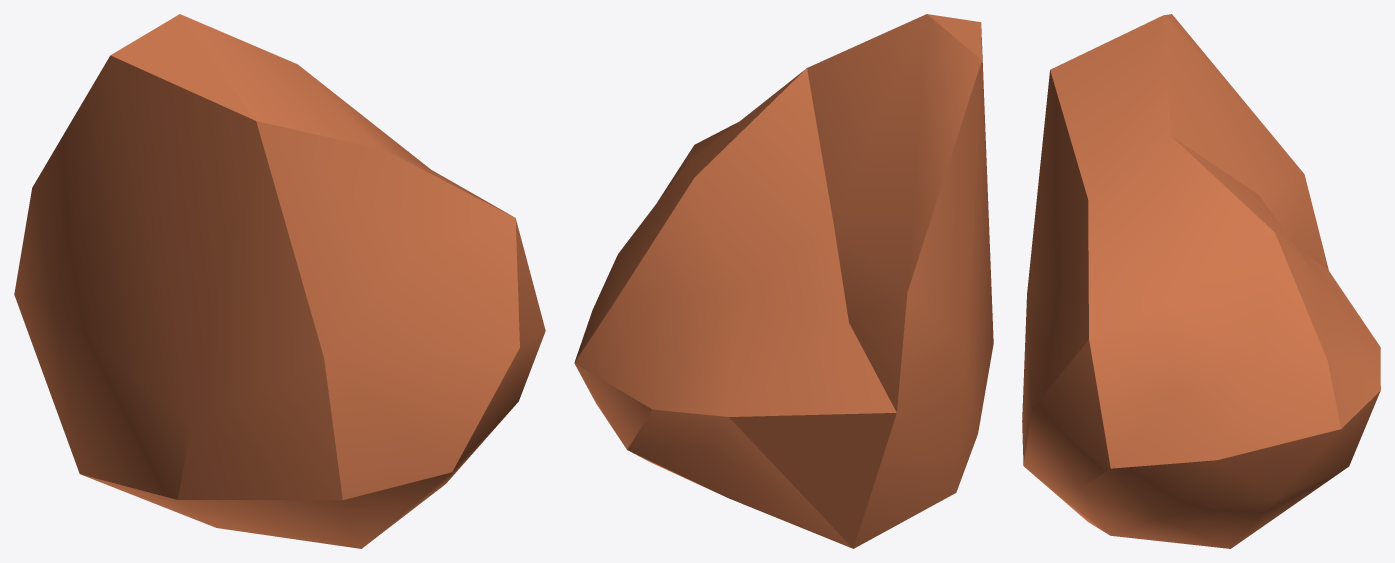
The model's file is Piedra1.fbx.
3 renders of one model, left to right at view 1: azimuth 30°, elevation 25°; view 2: azimuth 150°, elevation 25°; view 3: azimuth 270°, elevation 25°, orthographic. The views are drawn at different scales.
Parts seen in each view (by area): view 1: Piedra 1; view 2: Piedra 1; view 3: Piedra 1.
Part boxes in pixels (x1,y1,x2,y2): Piedra 1: (14, 14, 545, 548); Piedra 1: (574, 14, 993, 548); Piedra 1: (1022, 14, 1380, 548).
Size of the model in its own units: 724 by 909 by 640.
